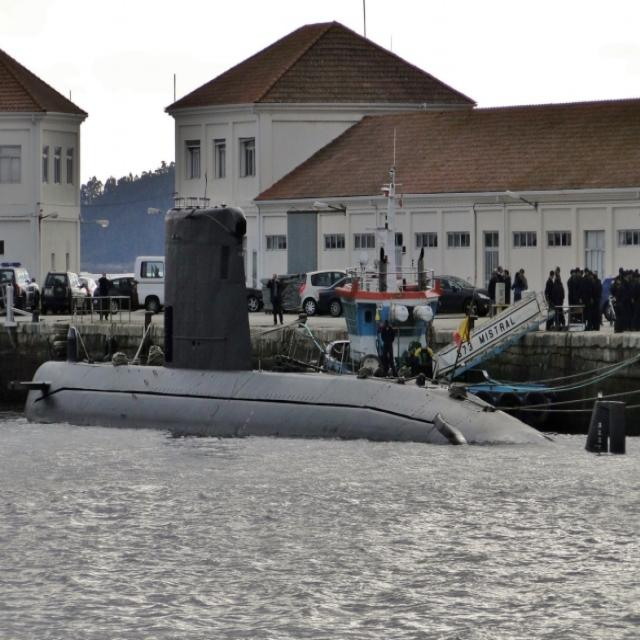submarine: (25, 202, 626, 454)
